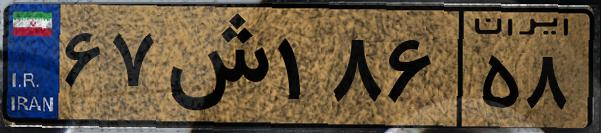1: (270, 28, 330, 110)
5: (475, 38, 525, 113)
6: (385, 28, 445, 110), (57, 26, 110, 100)
7: (110, 28, 158, 98)
8: (330, 28, 385, 110), (525, 38, 570, 115)
ش: (158, 12, 270, 120)
